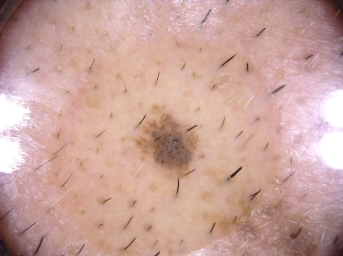seborrheic keratosis: (116, 94, 227, 200)
